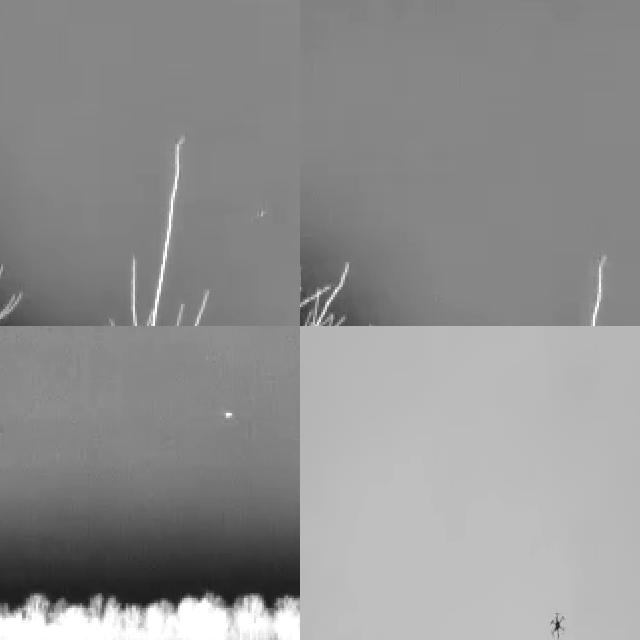0: (253, 199, 279, 231)
1: (218, 404, 246, 432)
drone: (545, 606, 567, 640)
